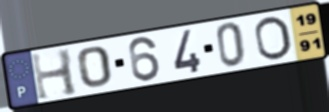0: (75, 45, 116, 90), (214, 21, 249, 70)
4: (171, 28, 203, 76)
6: (127, 35, 162, 83)
H: (29, 47, 81, 102)
O: (253, 15, 295, 63)
